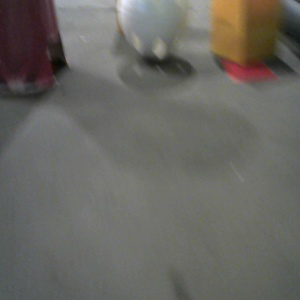middle: (1, 1, 72, 93)
